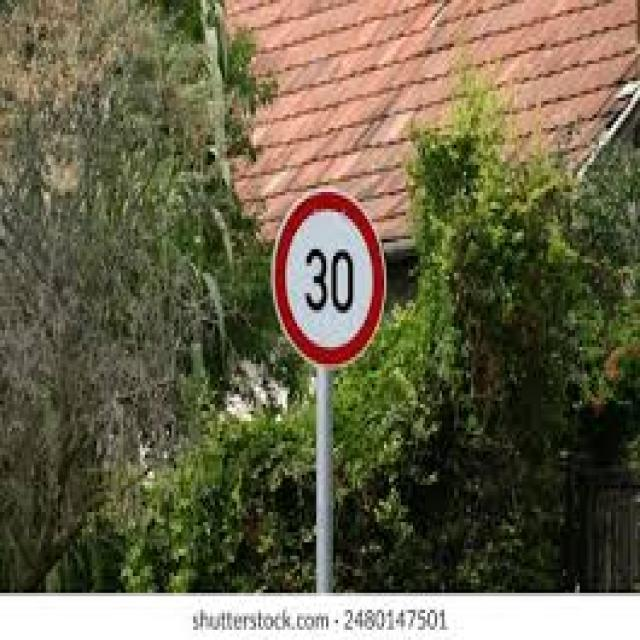Speed limit 30: (269, 183, 390, 368)
